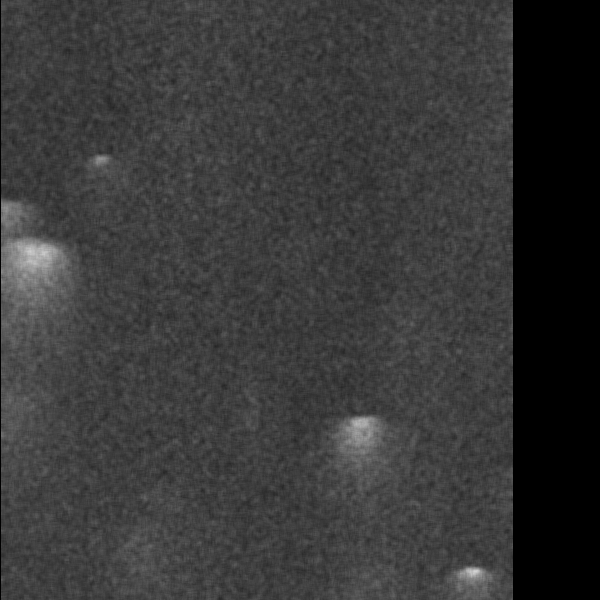spark: (333, 194, 402, 243), (55, 540, 106, 583), (453, 59, 496, 107), (80, 125, 132, 164)
